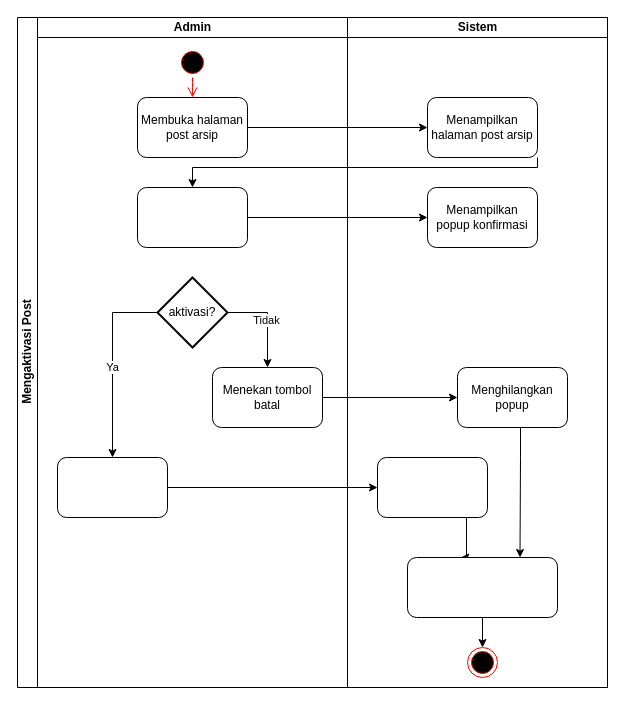
Image size: 625x705. Some labels were removed from this diagram. The centre of each missing label's shape, as x and y in pixels:
"Kembali menampilkan hal. post arsip dengan pesan berhasil/gagal/error" belongs at point (482, 587).
"Menekan tombol aktivasi" belongs at point (112, 487).
"Menekan tombol aktivasi di salah satu post" belongs at point (192, 217).
"Mengubah status post menjadi aktif" belongs at point (432, 487).
